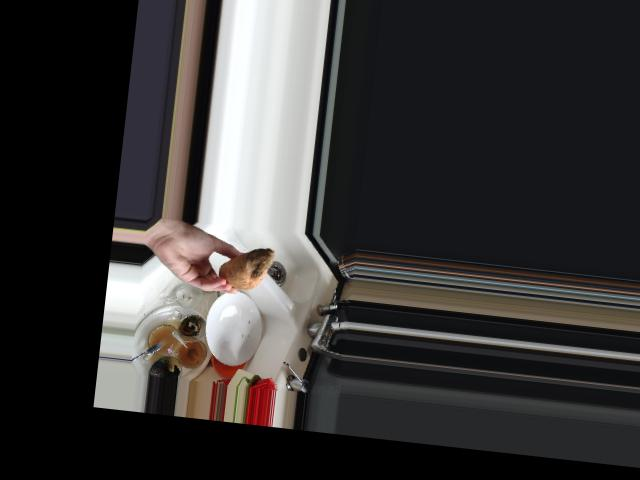sweet_potato: (217, 239, 276, 294)
